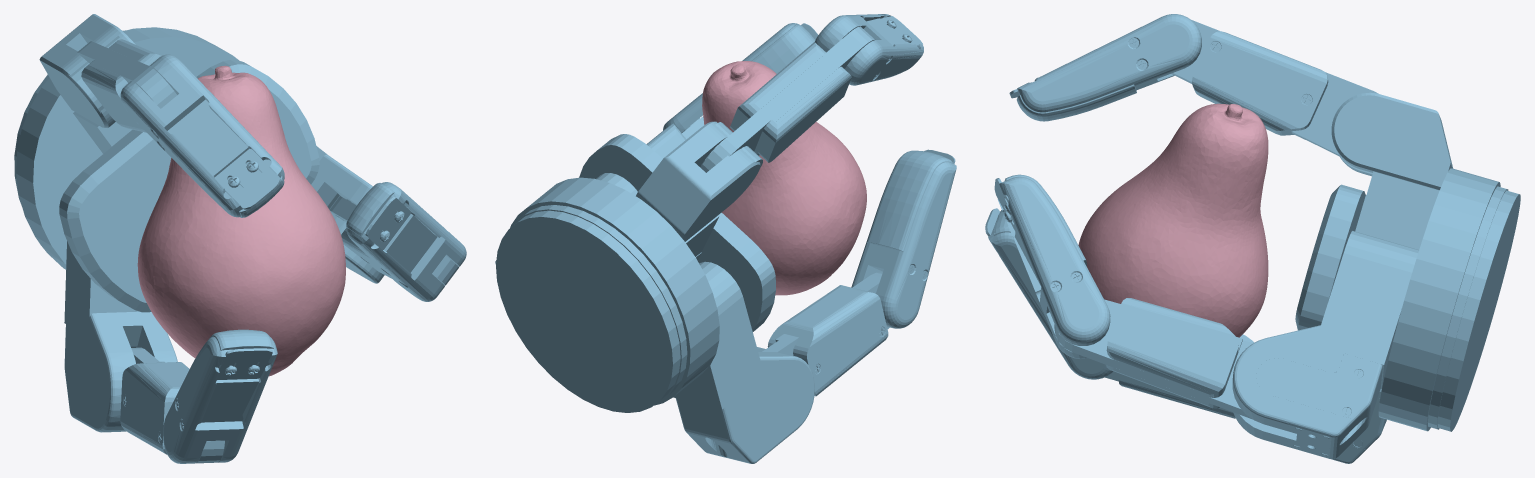
3 renders of one model, left to right at view 1: azimuth 30°, elevation 25°; view 2: azimuth 150°, elevation 25°; view 3: azimuth 270°, elevation 25°, orthographic. The views are drawn at different scales.
Parts seen in each view (by area): view 1: world, pear.stl; view 2: world, pear.stl; view 3: world, pear.stl.
Part boxes in pixels (x1,y1,x2,y2): world: (14,14,466,463); pear.stl: (137,65,345,376); world: (495,14,956,463); pear.stl: (702,61,866,295); world: (985,14,1520,463); pear.stl: (1078,103,1268,337).
Size of the model in its own units: 0.133 by 0.1593 by 0.1835.
